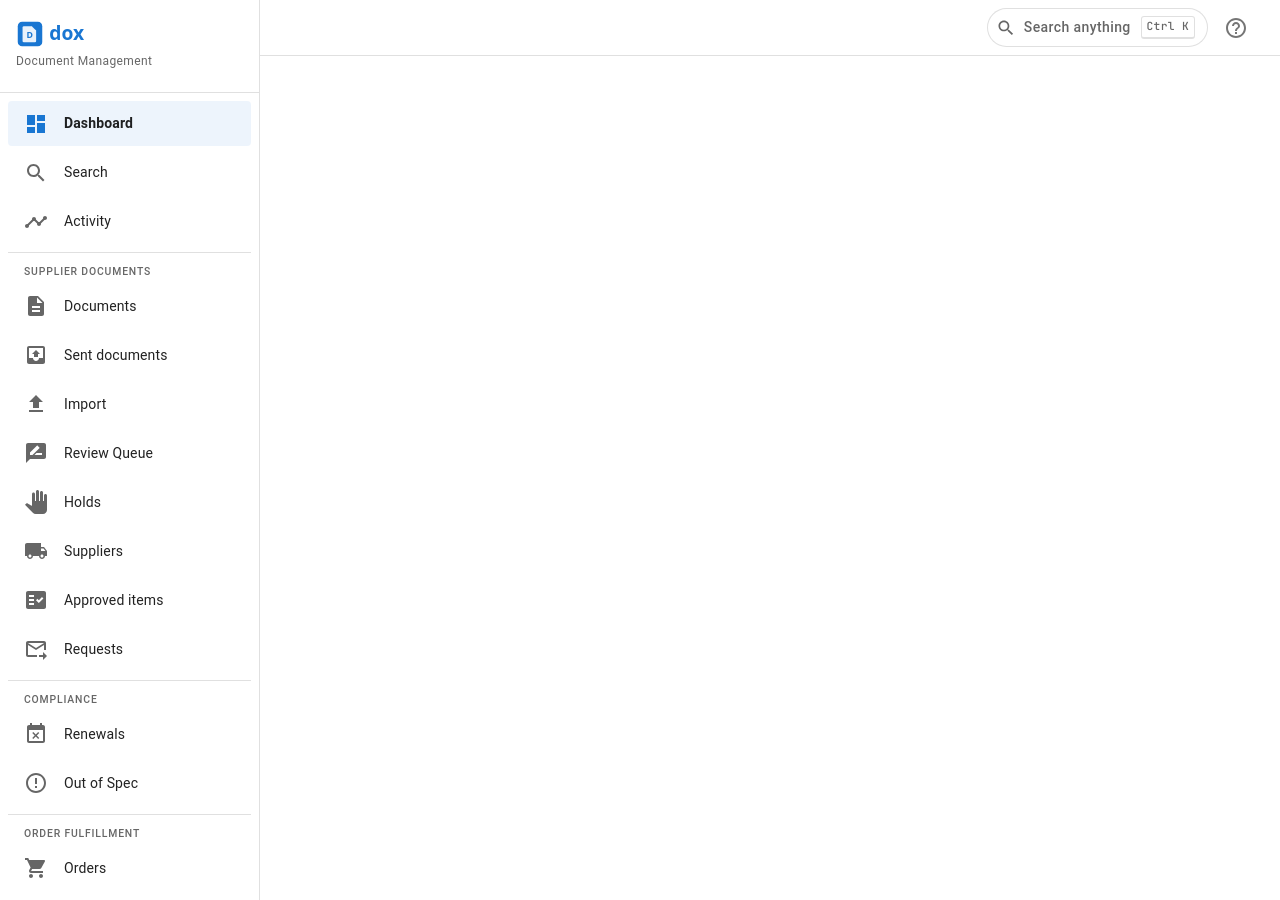
Layout — Waiting for QA in the rail › asks once on mount and again when a screen says the number changed, not on every navigation
The width and height of the screenshot is (1280, 900).
Note: Moving around the portal does not ask again.
Click the button "Orders" at (65,868), box top-left (24, 856), bottom-right (106, 880)
(page scrolled)
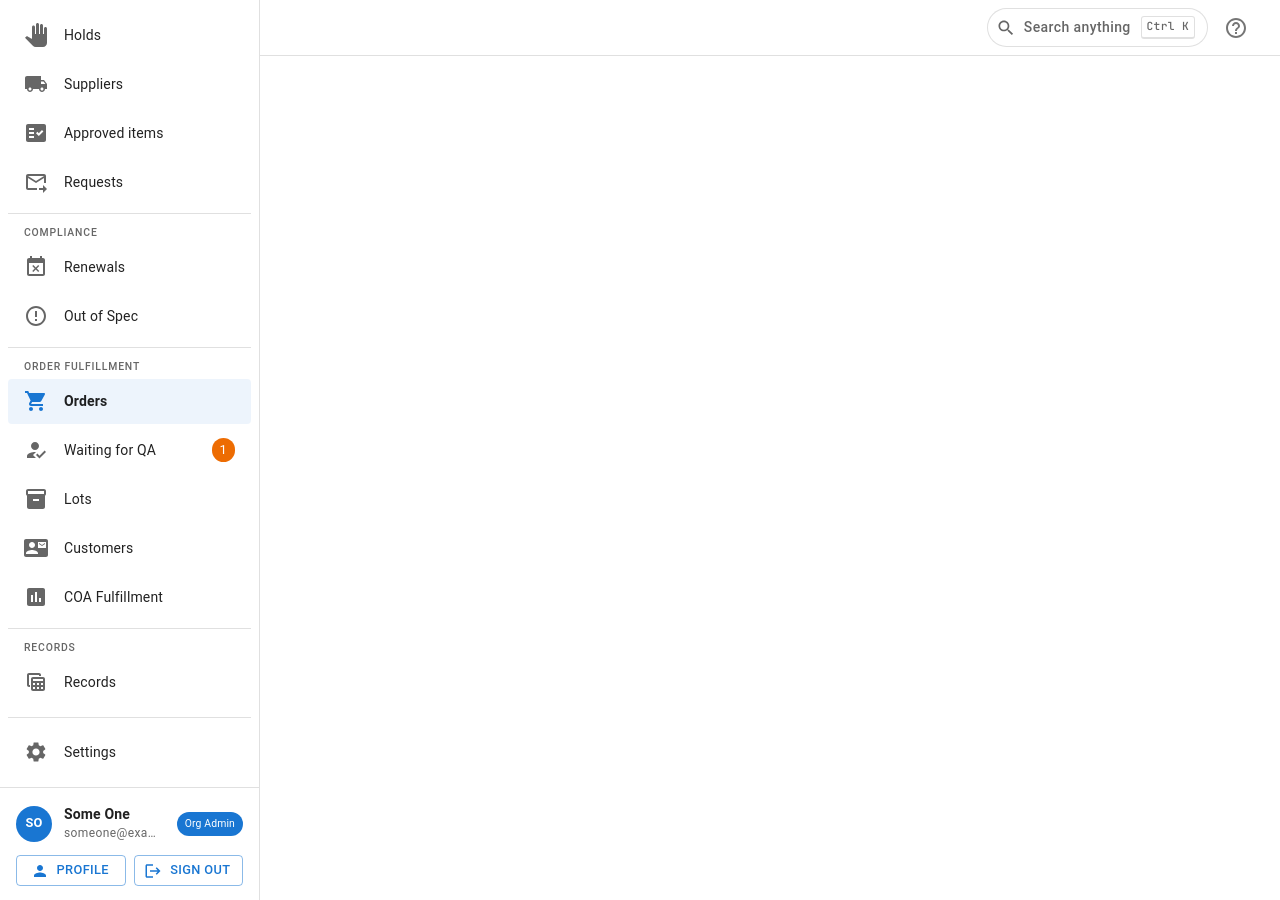
Expected: the text "Waiting for QA" is shown, top-left (64, 442), bottom-right (156, 458)
Expected: the element with test id "nav-waiting-for-qa-count" reads "1", top-left (220, 442), bottom-right (227, 457)
